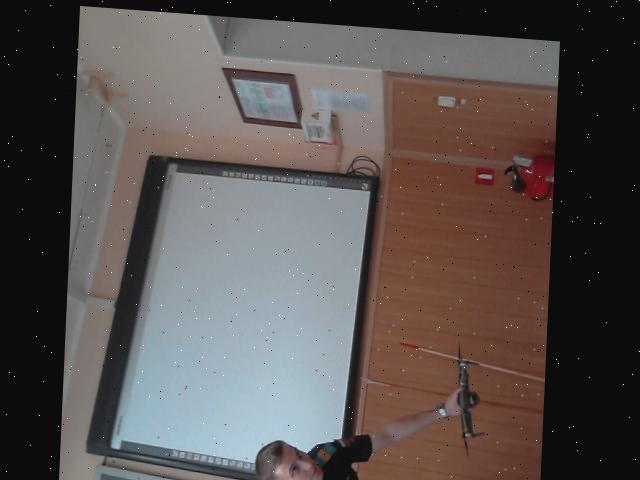drone: (444, 335, 495, 453)
